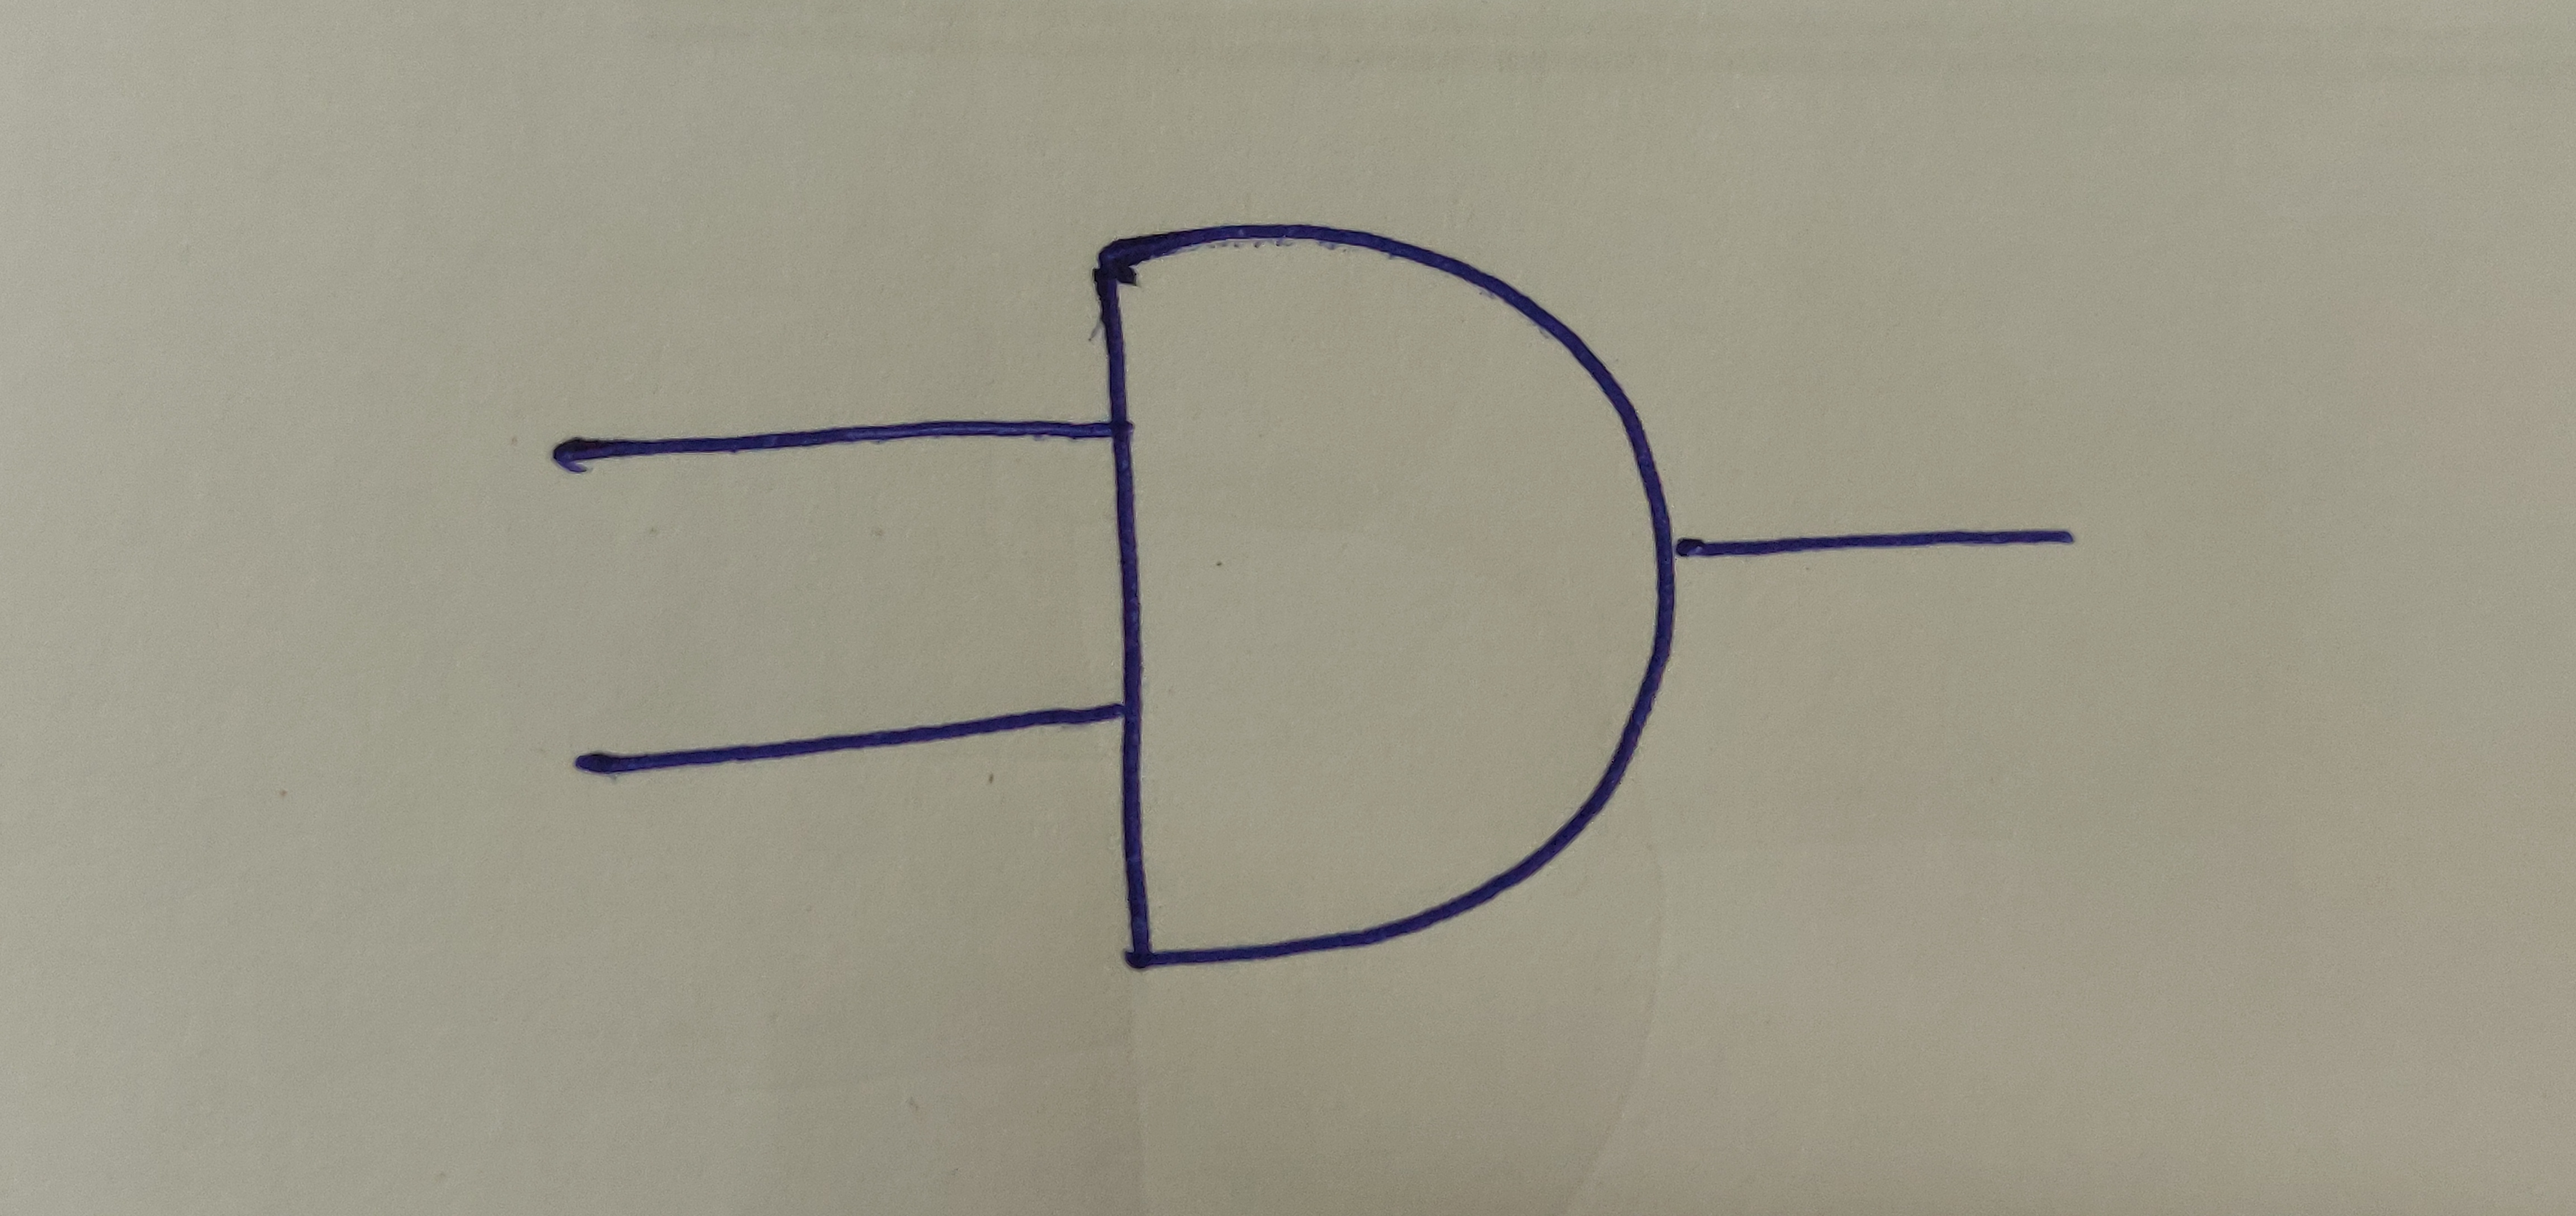and: (1099, 222, 1684, 973)
